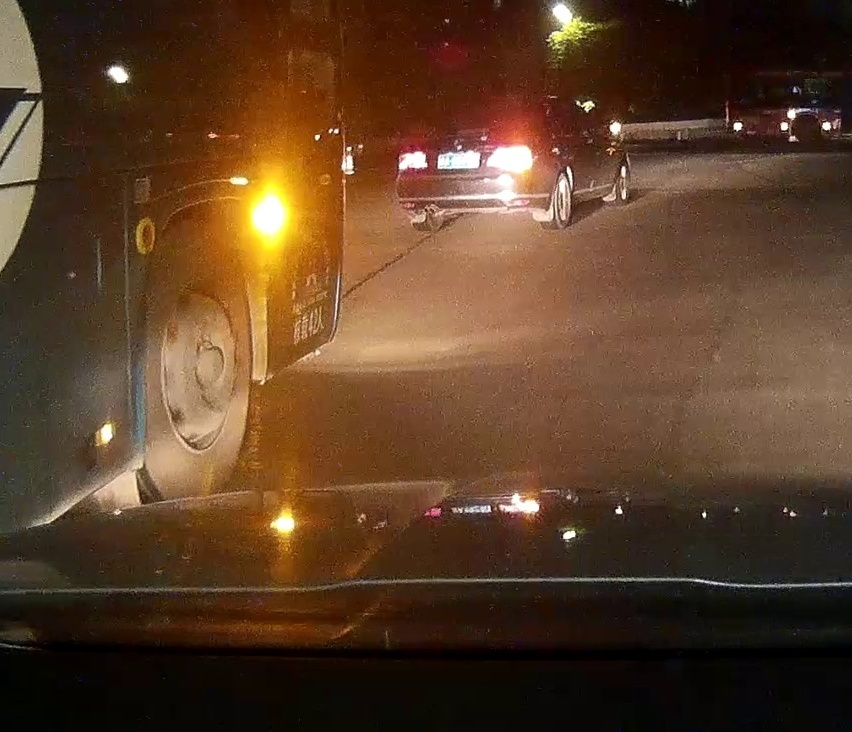L_light: (397, 150, 429, 172)
R_light: (487, 144, 535, 174)
T_light: (463, 99, 487, 105)
night-right: (395, 97, 545, 231)
